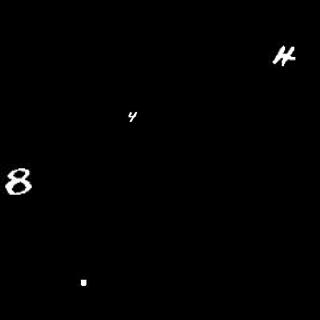dot: (79, 273, 91, 287)
eight: (6, 162, 38, 198)
four: (273, 44, 296, 67), (127, 108, 138, 125)
